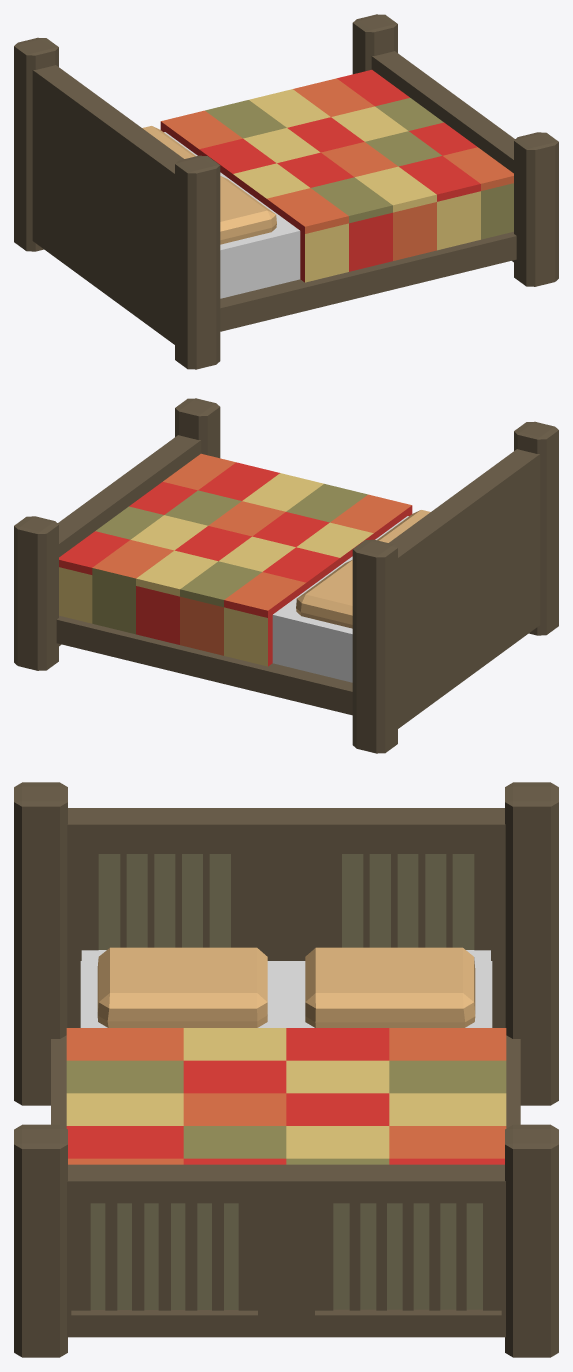
File: bed.fbx
3 views of the same model, one above another, from view 1: azimuth 30°, elevation 25°; view 2: azimuth 150°, elevation 25°; view 3: azimuth 270°, elevation 25° (orthographic). The views are drawn at different scales.
Parts seen in each view (by area): view 1: Cube.002; view 2: Cube.002; view 3: Cube.002.
Part boxes in pixels (bbox=[...]): Cube.002: bbox=[14, 14, 558, 369]; Cube.002: bbox=[14, 398, 558, 753]; Cube.002: bbox=[14, 782, 558, 1357].
Bounding box in the file's own units: 277 × 140 × 231.
